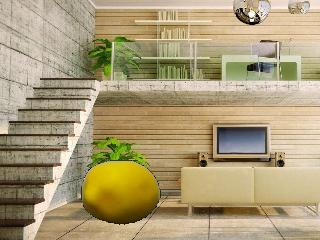lemon: (81, 162, 160, 225)
